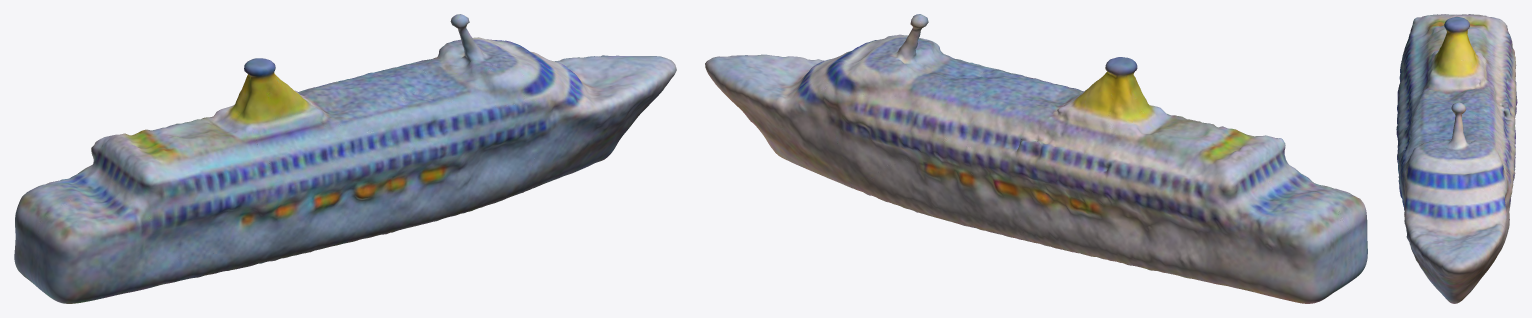
File: card_9.glb
3 views of the same model, side by side, from view 1: azimuth 30°, elevation 25°; view 2: azimuth 150°, elevation 25°; view 3: azimuth 270°, elevation 25° (orthographic). The views are drawn at different scales.
Parts seen in each view (by area): view 1: Mesh1; view 2: Mesh1; view 3: Mesh1.
Part boxes in pixels (x1,y1,x2,y2): Mesh1: [14, 14, 676, 303]; Mesh1: [705, 14, 1367, 303]; Mesh1: [1396, 14, 1517, 303].
Size of the model in its own units: 1.2 by 0.3338 by 0.2387.
Materials: 1 (1 with a texture image).
